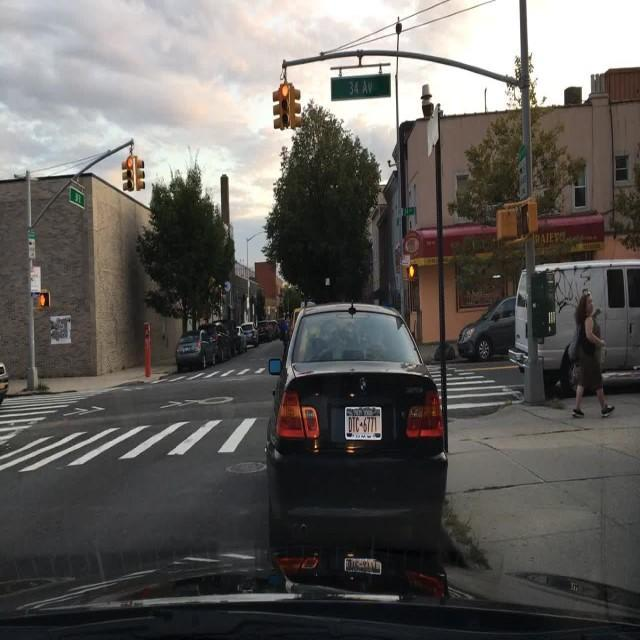normal: (260, 290, 462, 570), (515, 258, 640, 395), (458, 296, 519, 362), (174, 332, 216, 371), (237, 324, 260, 348), (260, 320, 279, 339)
